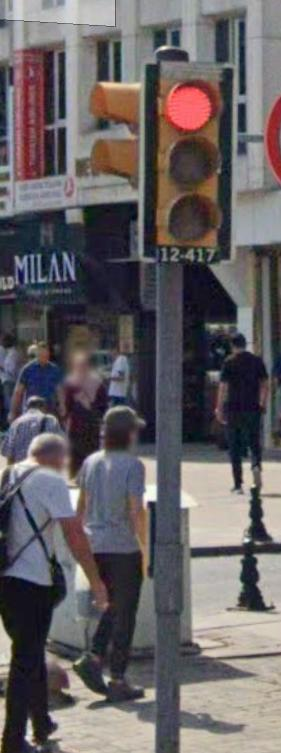redlight: (149, 56, 224, 254)
